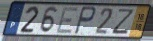2: (19, 5, 40, 34), (93, 8, 113, 36)
6: (38, 6, 58, 34)
E: (55, 6, 80, 35)
P: (73, 6, 97, 36)
Z: (110, 8, 137, 35)
